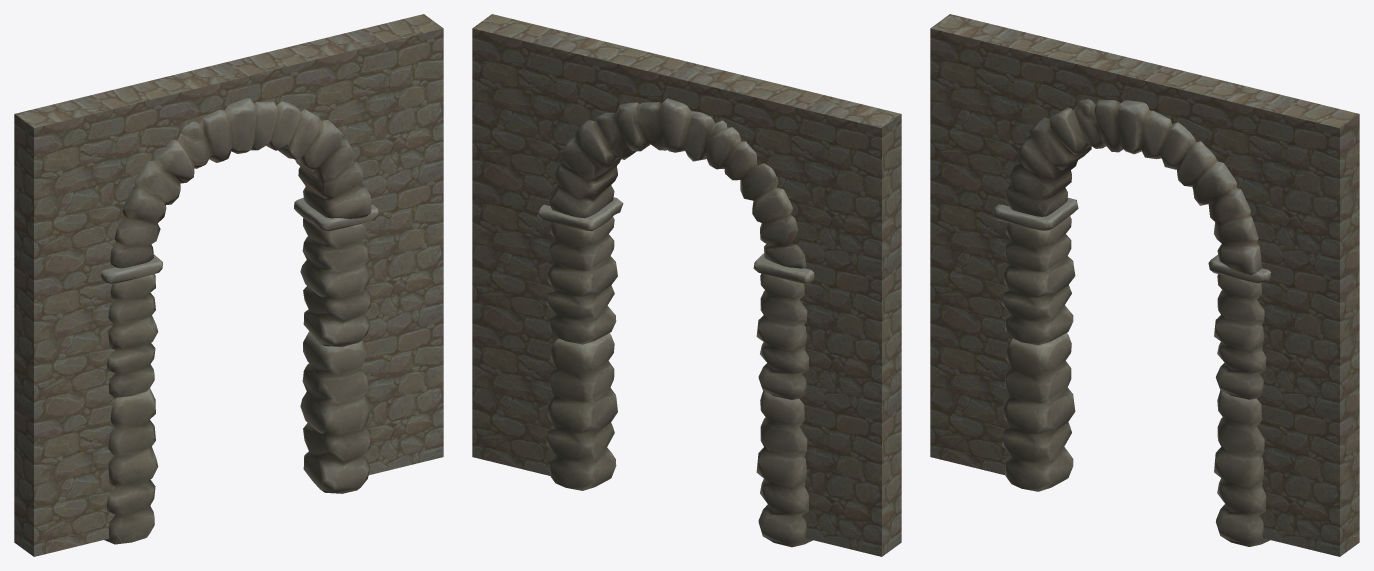
File: SM_FW01_Ruins_Int_Doorway_A_6x6_01.fbx
3 views of the same model, side by side, from view 1: azimuth 30°, elevation 25°; view 2: azimuth 150°, elevation 25°; view 3: azimuth 330°, elevation 25° (orthographic).
Parts seen in each view (by area): view 1: SM_FW01_Ruins_Int_Doorway_A_6x6_01, SM_FW01_Ruins_Int_Doorway_A_6x6_01_LOD0; view 2: SM_FW01_Ruins_Int_Doorway_A_6x6_01, SM_FW01_Ruins_Int_Doorway_A_6x6_01_LOD0; view 3: SM_FW01_Ruins_Int_Doorway_A_6x6_01, SM_FW01_Ruins_Int_Doorway_A_6x6_01_LOD0.
Boxes of the visible parts, box(x1,y1,x2,y2) form: SM_FW01_Ruins_Int_Doorway_A_6x6_01: box(14, 14, 443, 556); SM_FW01_Ruins_Int_Doorway_A_6x6_01_LOD0: box(101, 98, 378, 544); SM_FW01_Ruins_Int_Doorway_A_6x6_01: box(472, 14, 901, 556); SM_FW01_Ruins_Int_Doorway_A_6x6_01_LOD0: box(537, 98, 814, 547); SM_FW01_Ruins_Int_Doorway_A_6x6_01: box(930, 14, 1359, 556); SM_FW01_Ruins_Int_Doorway_A_6x6_01_LOD0: box(992, 99, 1271, 546).
Size of what is drawn, in the model's own units: 6 by 6.14 by 0.9026.
